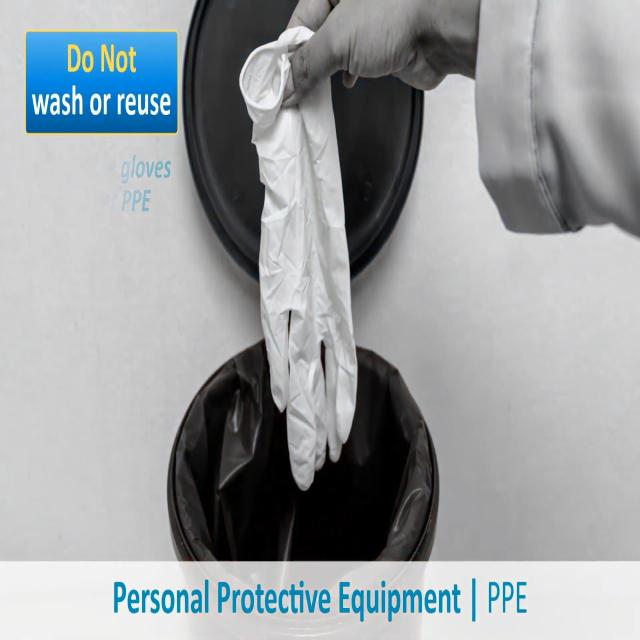Gloves: (242, 19, 372, 476)
